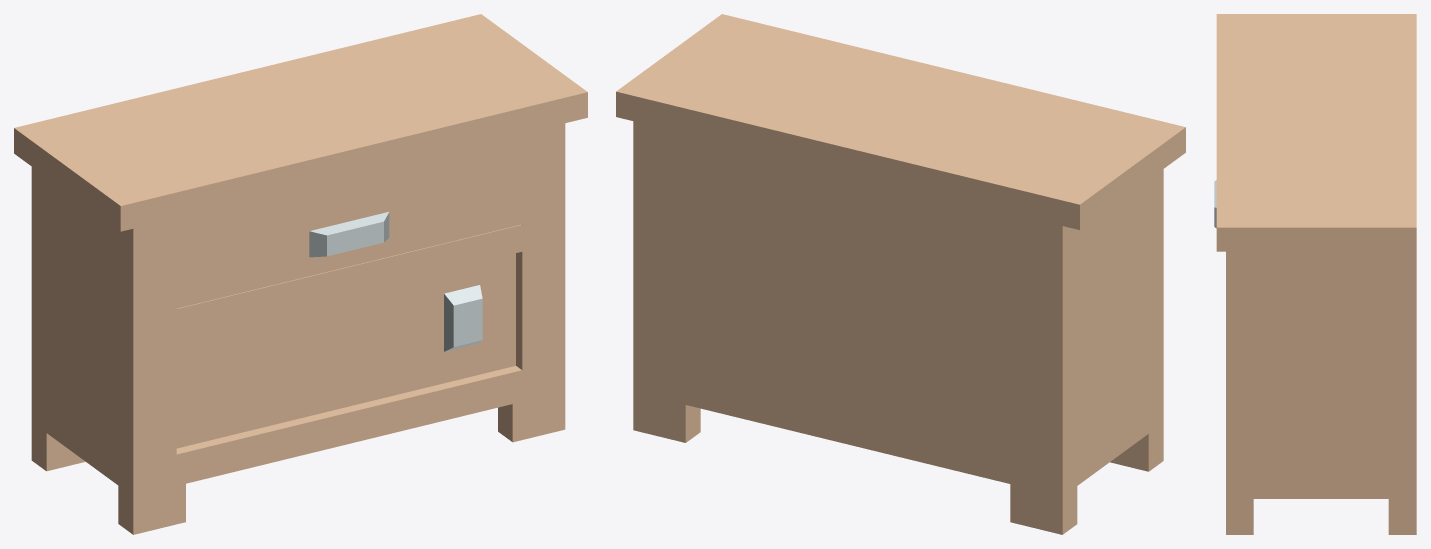
Rendered from kk-cabinetBedDrawer.glb.
3 renders of one model, left to right at view 1: azimuth 30°, elevation 25°; view 2: azimuth 150°, elevation 25°; view 3: azimuth 270°, elevation 25°, orthographic. The views are drawn at different scales.
Visible parts, largest first — view 1: cabinetBedDrawer(Clone), door; view 2: cabinetBedDrawer(Clone); view 3: cabinetBedDrawer(Clone).
Part boxes in pixels (<box>): cabinetBedDrawer(Clone): <box>14,14,587,534</box>; door: <box>309,212,482,351</box>; cabinetBedDrawer(Clone): <box>616,14,1185,534</box>; cabinetBedDrawer(Clone): <box>1216,14,1416,534</box>.
Bounding box in the file's own units: 1 × 0.6889 × 0.4.
